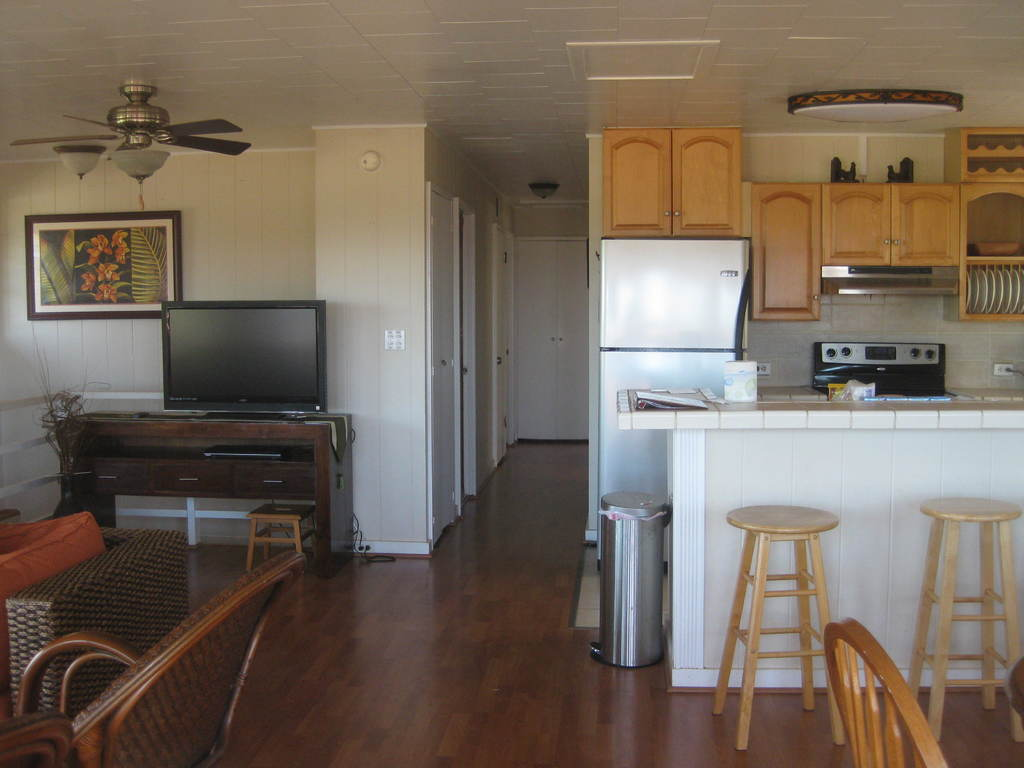cabinet door: (753, 189, 818, 318), (605, 133, 674, 237), (673, 131, 737, 237), (824, 189, 894, 267), (892, 191, 959, 266), (228, 459, 306, 499), (150, 460, 210, 499), (86, 464, 151, 496)
door: (518, 244, 562, 432), (431, 199, 454, 525), (558, 246, 590, 432), (494, 231, 510, 453)
handle: (260, 474, 295, 493), (97, 470, 121, 482), (183, 480, 206, 489)
refrigerator door: (603, 234, 742, 352), (603, 351, 726, 393)
